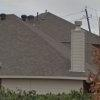Chimney: (65, 16, 89, 74)
